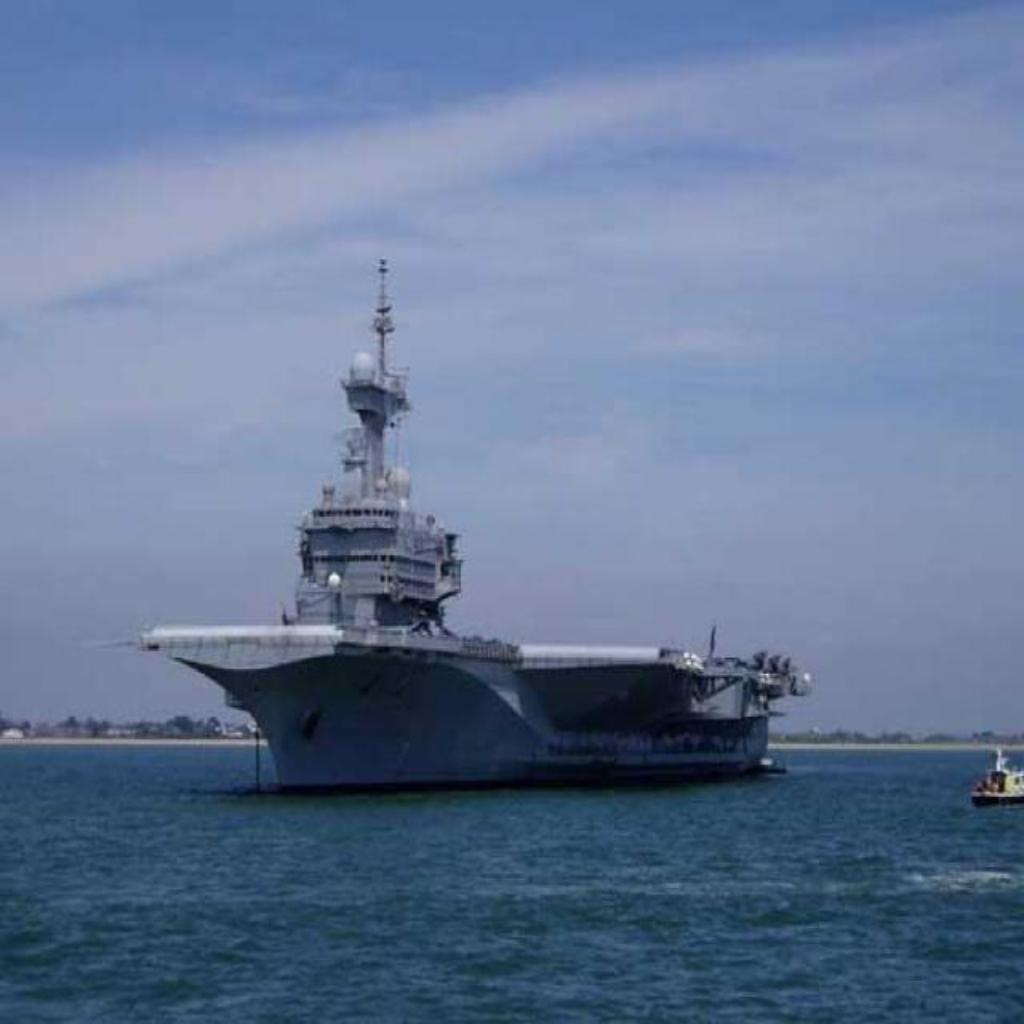Warship: (125, 292, 793, 812)
